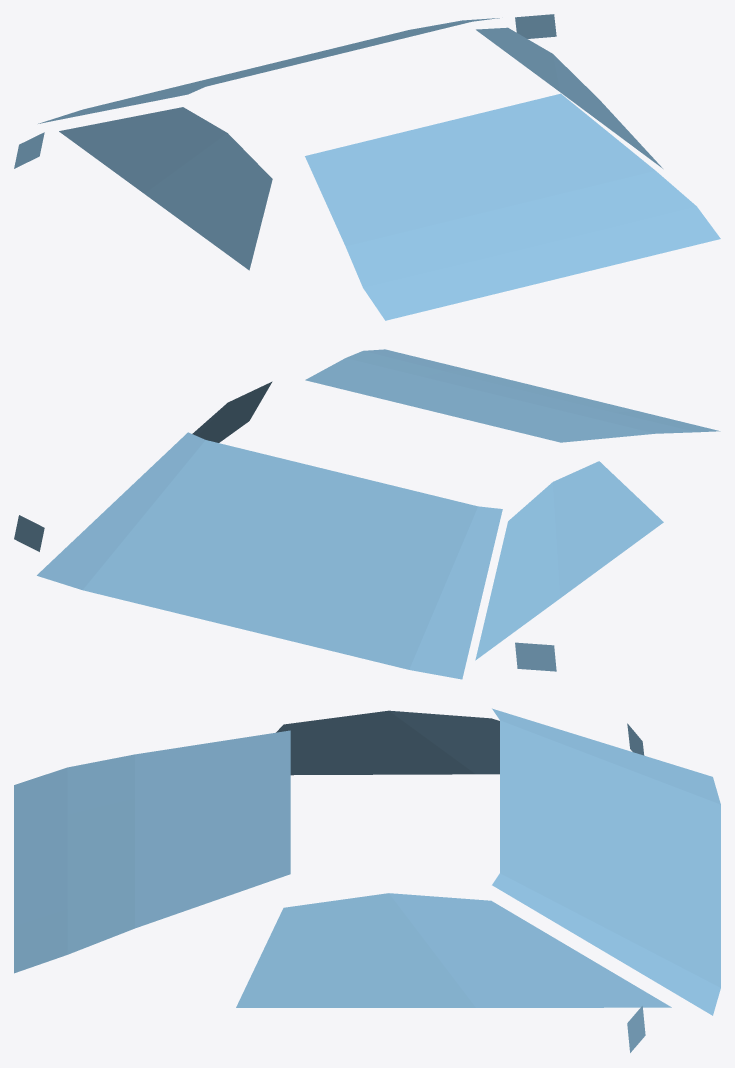
Rendered from Glass.glb.
3 renders of one model, top to bottom at view 1: azimuth 30°, elevation 25°; view 2: azimuth 150°, elevation 25°; view 3: azimuth 270°, elevation 25°, orthographic. The views are drawn at different scales.
Visible parts, largest first — view 1: Glass; view 2: Glass; view 3: Glass.
Part boxes in pixels (x1=…): Glass: x1=14, y1=14, x2=720, y2=320; Glass: x1=14, y1=349, x2=720, y2=679; Glass: x1=14, y1=708, x2=720, y2=1052.
Size of the model in its own units: 2.48 by 0.3977 by 2.43.
